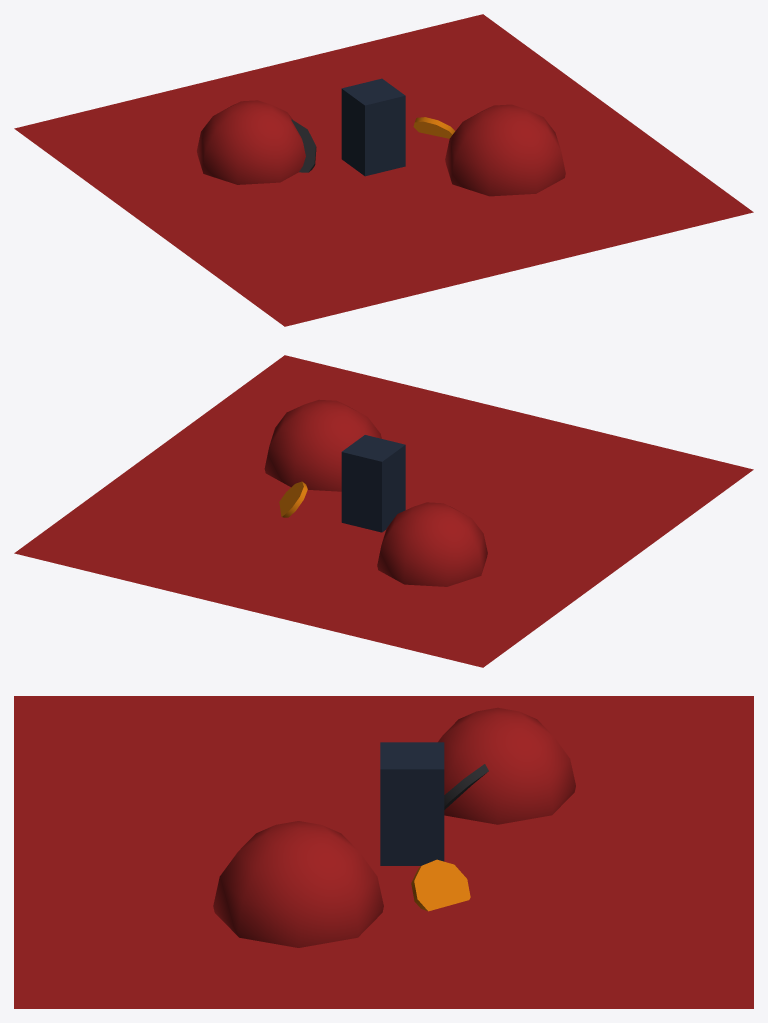
File: tar_01.glb
The picture shows the model from 3 angles, top to bottom: view 1: azimuth 30°, elevation 25°; view 2: azimuth 150°, elevation 25°; view 3: azimuth 270°, elevation 25°; orthographic projection. The views are drawn at different scales.
Visible parts, largest first — view 1: scenario_base_floor, TAR_01, tarkan_buried_gears; view 2: scenario_base_floor, TAR_01, tarkan_buried_gears; view 3: scenario_base_floor, TAR_01, tarkan_buried_gears.
Boxes of the visible parts, box(x1,y1,x2,y2) form: scenario_base_floor: box(14, 14, 753, 326); TAR_01: box(197, 78, 565, 196); tarkan_buried_gears: box(291, 117, 455, 172); scenario_base_floor: box(14, 355, 753, 667); TAR_01: box(264, 399, 487, 586); tarkan_buried_gears: box(279, 481, 307, 517); scenario_base_floor: box(14, 696, 753, 1008); TAR_01: box(213, 707, 575, 947); tarkan_buried_gears: box(411, 764, 488, 911).
Bounding box in the file's own units: 52 × 13 × 52.
